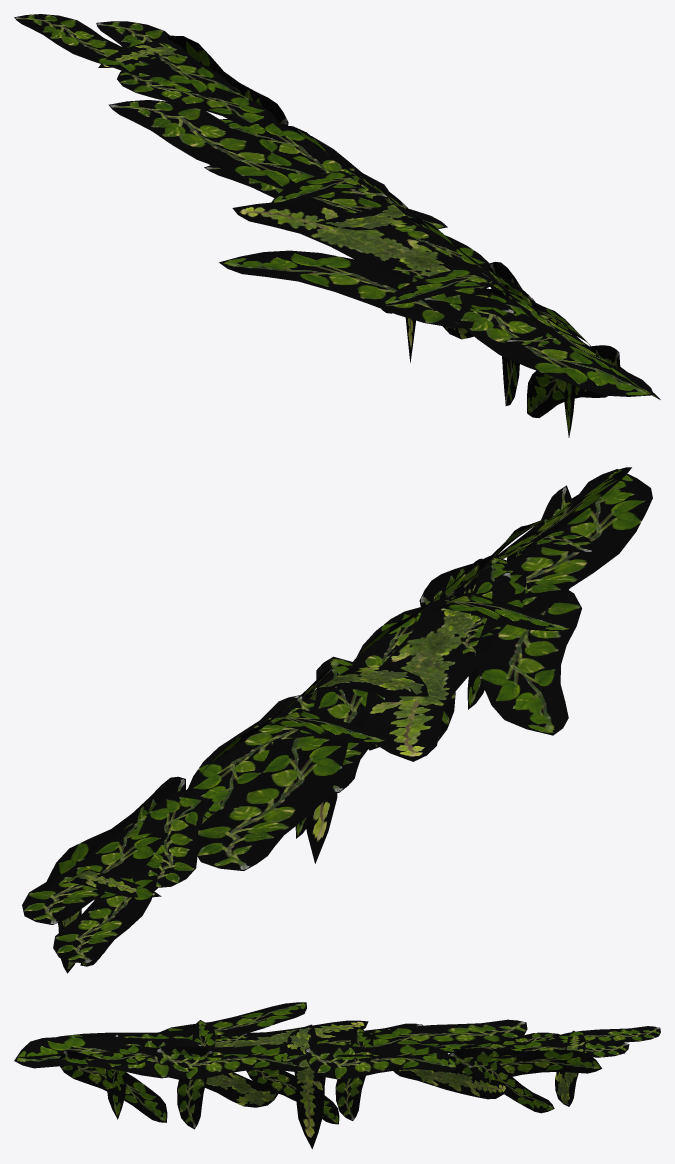
Rendered from SM_Prop_Ivy_TopFlat.fbx.
The picture shows the model from 3 angles, top to bottom: view 1: azimuth 30°, elevation 25°; view 2: azimuth 150°, elevation 25°; view 3: azimuth 270°, elevation 25°; orthographic projection. The views are drawn at different scales.
Parts seen in each view (by area): view 1: SM_Prop_Ivy_TopFlat_LOD0; view 2: SM_Prop_Ivy_TopFlat_LOD0; view 3: SM_Prop_Ivy_TopFlat_LOD0.
Boxes of the visible parts, x1,y1,x2,y2 form: SM_Prop_Ivy_TopFlat_LOD0: [14, 14, 660, 437]; SM_Prop_Ivy_TopFlat_LOD0: [22, 467, 652, 973]; SM_Prop_Ivy_TopFlat_LOD0: [14, 1002, 660, 1149].
Size of the model in its own units: 78.88 by 344 by 60.05.
Materials: 1 (1 with a texture image).
